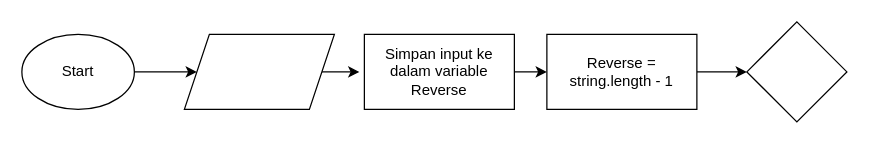
Image size: 869x144. Some labels were removed from this diagram. Here are the shapes that lost their labels. From the top down, the centre of each, then its label:
At (x=258, y=71): "Input string".
At (x=796, y=71): "i > 0".
